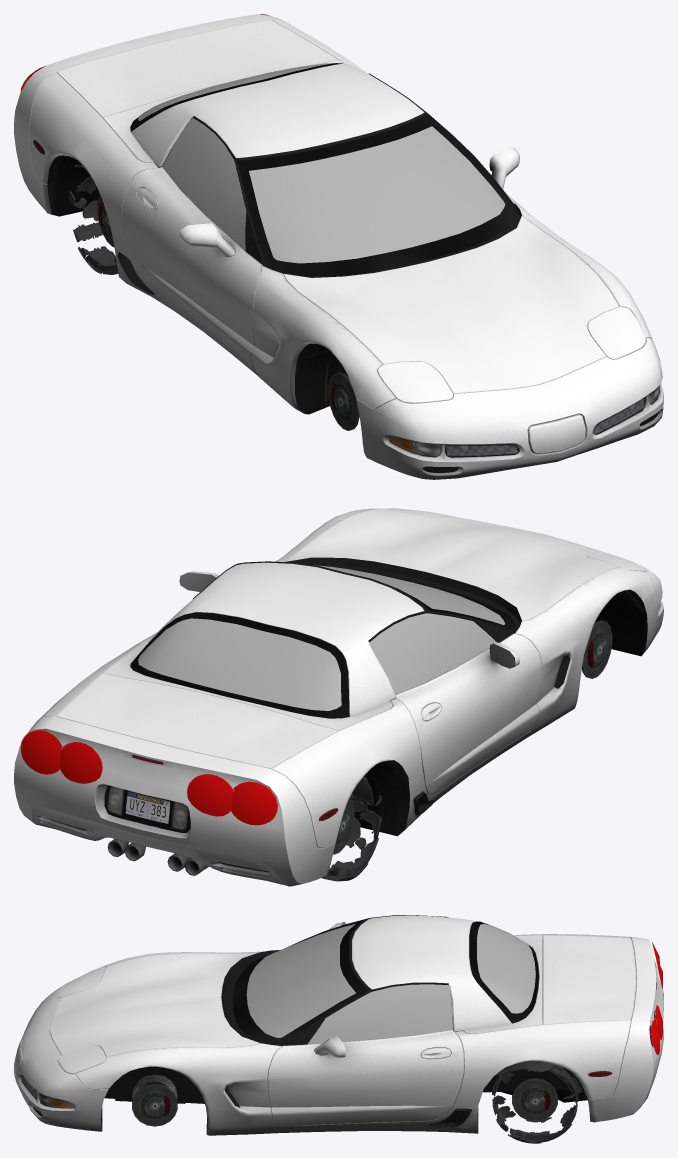
File: 45_UnicornC5.fbx
The picture shows the model from 3 angles, top to bottom: view 1: azimuth 30°, elevation 25°; view 2: azimuth 150°, elevation 25°; view 3: azimuth 270°, elevation 25°; orthographic projection. The views are drawn at different scales.
Parts seen in each view (by area): view 1: body_duco, kit00_duco, body_glass, body_matte, lights_duco, body_chrome, Rotor; view 2: body_duco, body_glass, body_matte, kit00_duco, BrakeLights, Rotor (×2), body_chrome, lights_duco; view 3: body_duco, body_glass, kit00_duco, body_matte, Rotor (×2), lights_duco, body_chrome, BrakeLights, Tyre_Explode_09.
Boxes of the visible parts, left/top/right/bottom form: body_duco: left=14, top=14, right=663, bottom=479; kit00_duco: left=283, top=216, right=619, bottom=393; body_glass: left=138, top=63, right=505, bottom=263; body_matte: left=47, top=63, right=659, bottom=472; lights_duco: left=377, top=307, right=645, bottom=403; body_chrome: left=33, top=140, right=660, bottom=457; Rotor: left=328, top=372, right=359, bottom=430; body_duco: left=14, top=508, right=663, bottom=886; body_glass: left=138, top=565, right=504, bottom=710; body_matte: left=50, top=557, right=647, bottom=875; kit00_duco: left=285, top=509, right=619, bottom=620; BrakeLights: left=20, top=730, right=278, bottom=825; Rotor (×2): left=333, top=620, right=612, bottom=854; body_chrome: left=132, top=572, right=660, bottom=820; lights_duco: left=383, top=508, right=645, bottom=571; body_duco: left=14, top=915, right=663, bottom=1135; body_glass: left=246, top=924, right=535, bottom=1044; kit00_duco: left=49, top=953, right=259, bottom=1056; body_matte: left=33, top=915, right=587, bottom=1133; Rotor (×2): left=132, top=1078, right=557, bottom=1126; lights_duco: left=57, top=966, right=106, bottom=1073; body_chrome: left=21, top=922, right=656, bottom=1108; BrakeLights: left=651, top=942, right=662, bottom=1054; Tyre_Explode_09: left=494, top=1061, right=554, bottom=1076.
Size of the model in its own units: 2.11 by 1.18 by 4.55.
